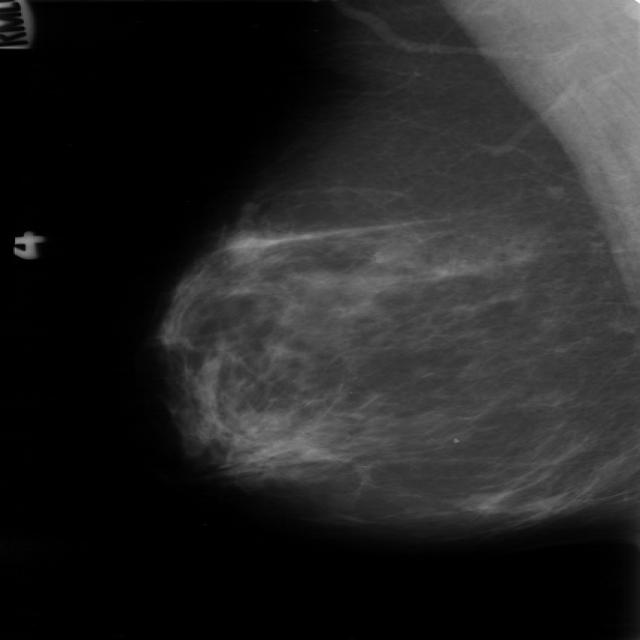tumour: (221, 230, 273, 261)
